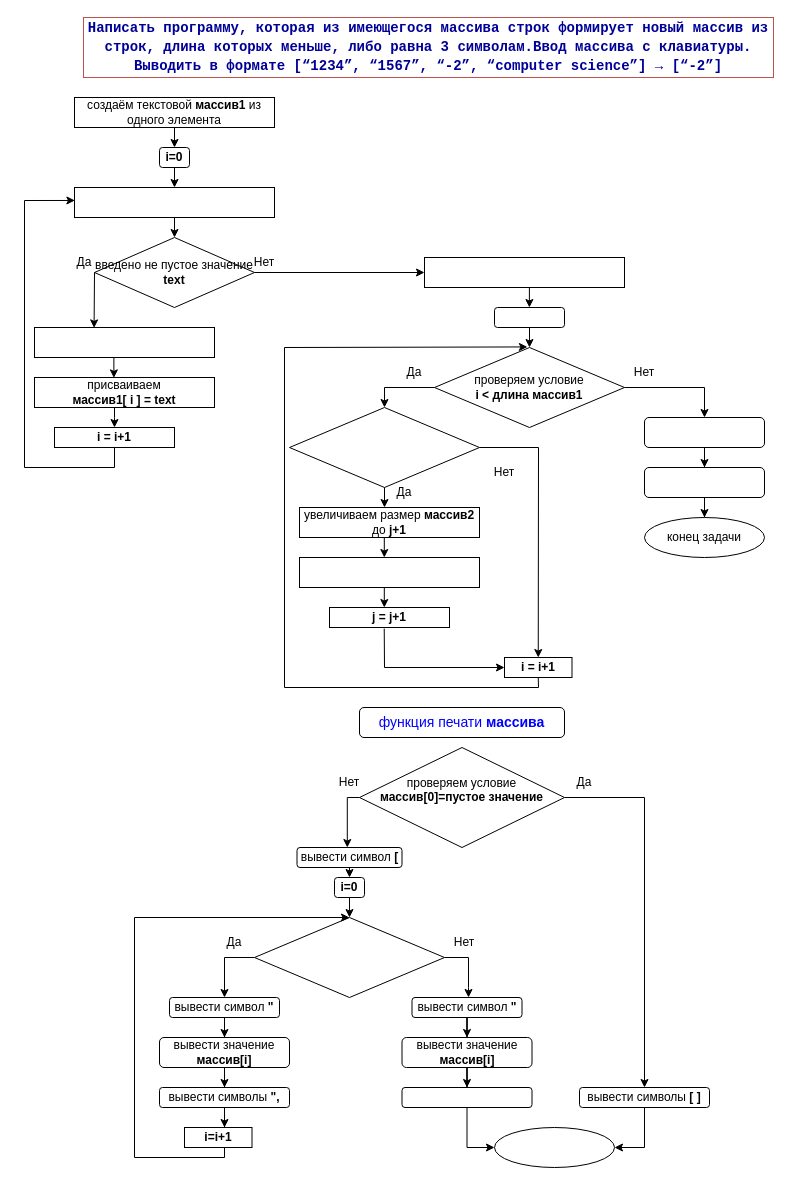
Some shapes in this 791 by 1185 pixel diagram are drawn without their labels. The centre of each missing label's shape, as x and y in pixels:
i = 0, j = 0: (x=529, y=317)
вывести символы " ]: (x=466, y=1097)
выводим приглашение ввести текст: (x=174, y=202)
конец функции: (x=554, y=1147)
печать массив1: (x=704, y=432)
печать массив2: (x=704, y=482)
присваиваем массив2[j] = массив1[i]: (x=389, y=572)
проверяем условие i< длина массив-1: (x=349, y=957)
проверяем условие длина элемента массив1 [ i ] <= 3: (x=384, y=447)
создаём текстовой массив2 из одного элемента: (x=524, y=272)
увеличиваем размер массив1 до i+1: (x=124, y=342)
